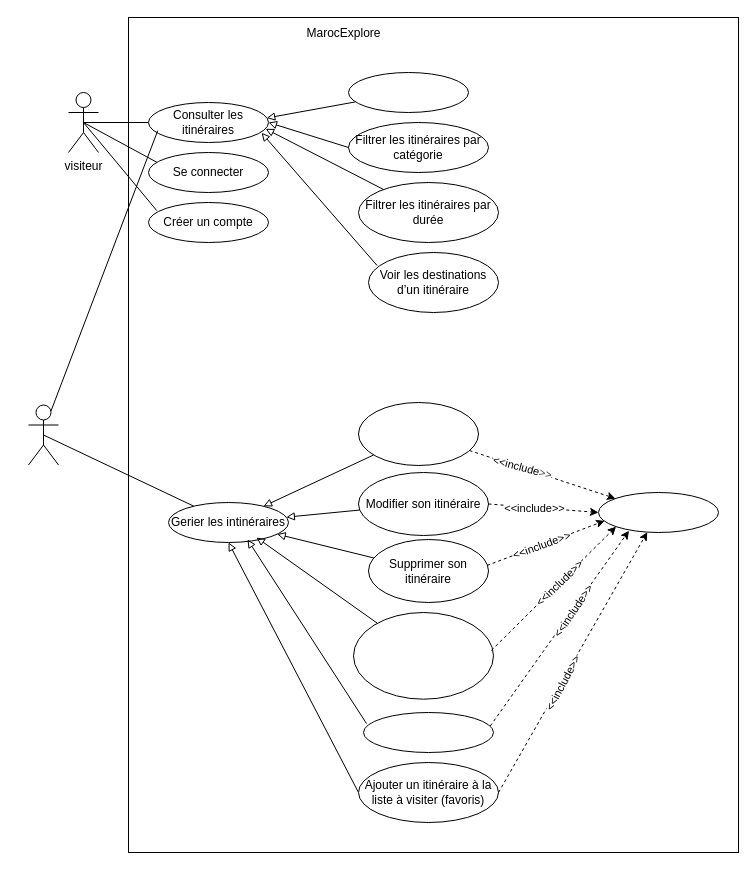
This 756x870 diagram has some shape labels left out. The shapes that lost their labels are listed below. From the top down, each one's centre as x and y in pixels, then its label:
At (408,92): "Rechercher un itinéraire".
At (43,434): "Utilisateur".
At (418,434): "Créer un itinéraire".
At (658,512): "S'authentifier".
At (423,655): "Ajouter des destinations à un itinéraire".
At (428,732): "Voir sa liste de favoris".
